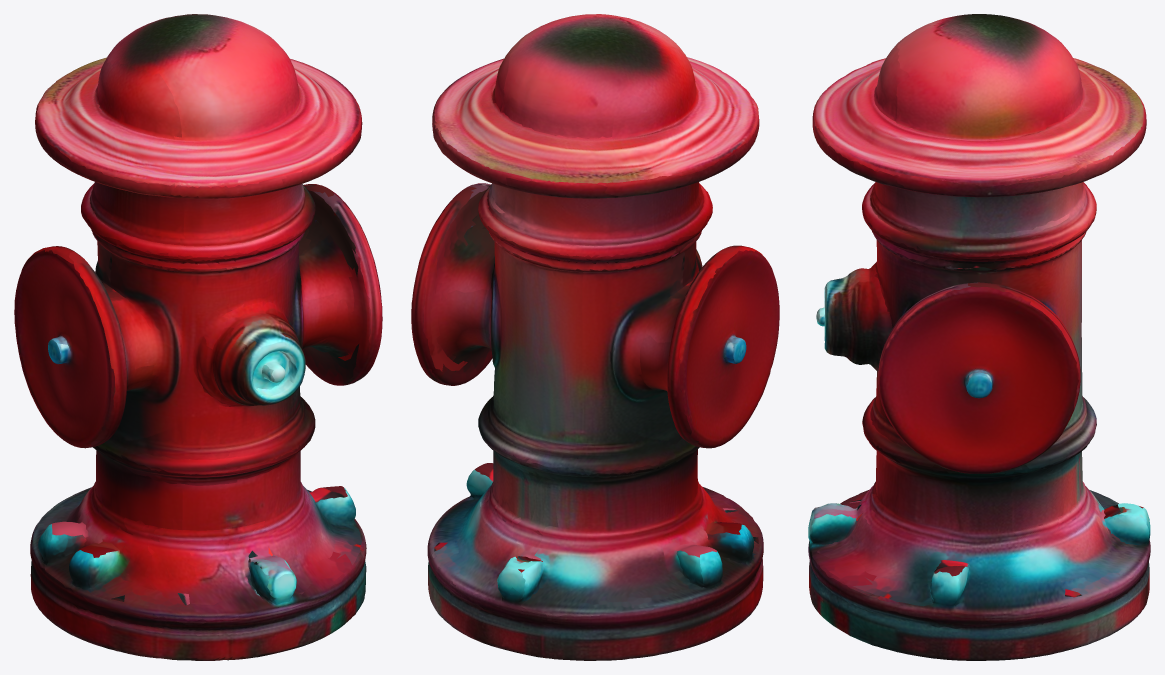
File: hidrante.glb
3 views of the same model, side by side, from view 1: azimuth 30°, elevation 25°; view 2: azimuth 150°, elevation 25°; view 3: azimuth 270°, elevation 25° (orthographic).
Visible parts, largest first — view 1: tmp7l36wi8y.ply; view 2: tmp7l36wi8y.ply; view 3: tmp7l36wi8y.ply.
Part boxes in pixels (left/top/right/bottom): tmp7l36wi8y.ply: left=14, top=14, right=382, bottom=660; tmp7l36wi8y.ply: left=411, top=14, right=779, bottom=660; tmp7l36wi8y.ply: left=808, top=14, right=1150, bottom=660.
Size of the model in its own units: 0.5383 by 0.9927 by 0.5456.
1 material, 1 textured.
